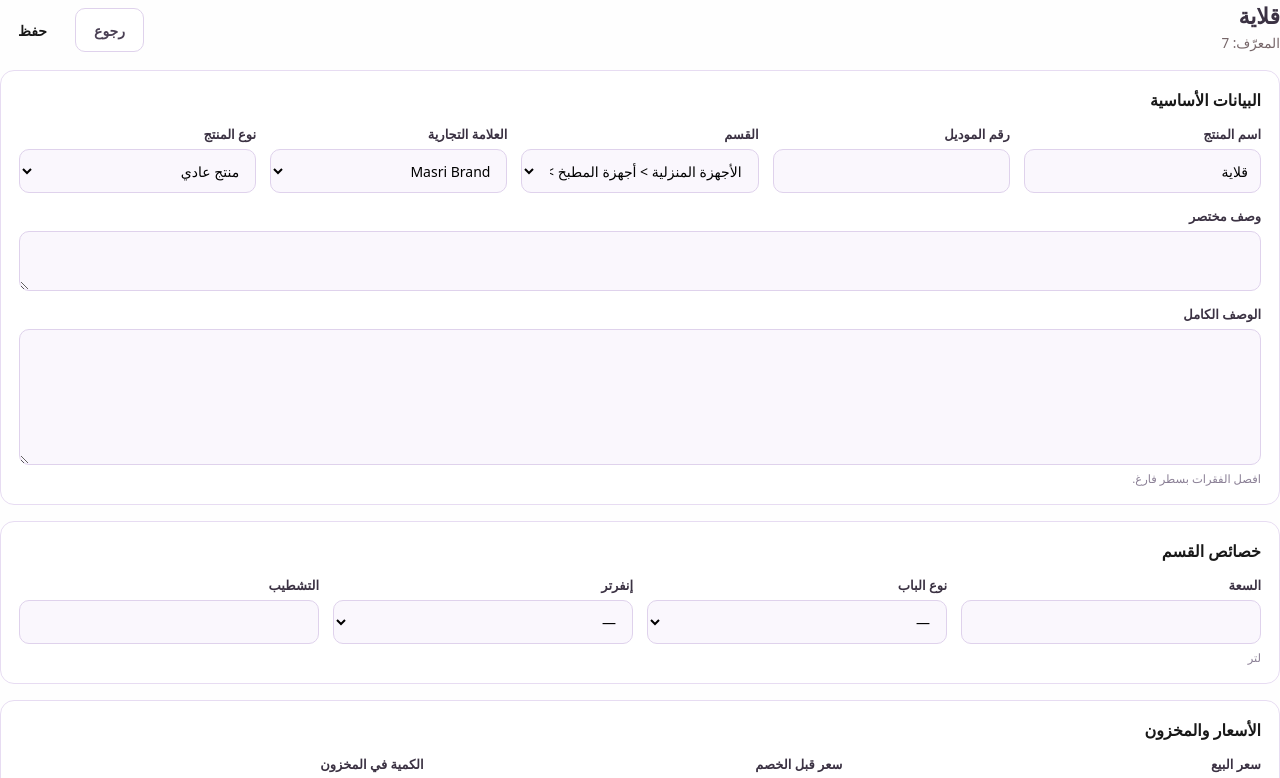
Test case: product editor primary UX › shows backend attribute validation errors
Type "25" into the number field labelled "السعة".
click(1111, 622); type("25")  # box [961,600,1261,644]
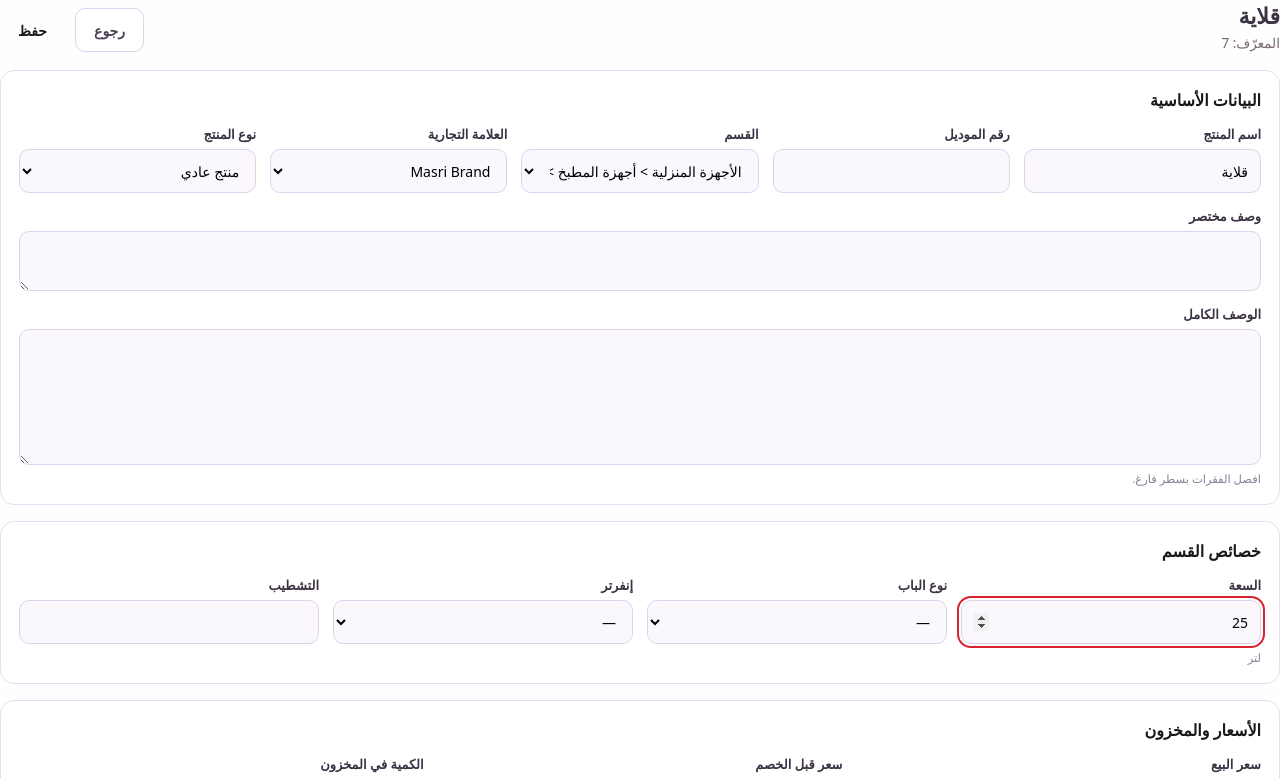
Click the button "حفظ".
click(32, 30)  # box [0,8,65,52]
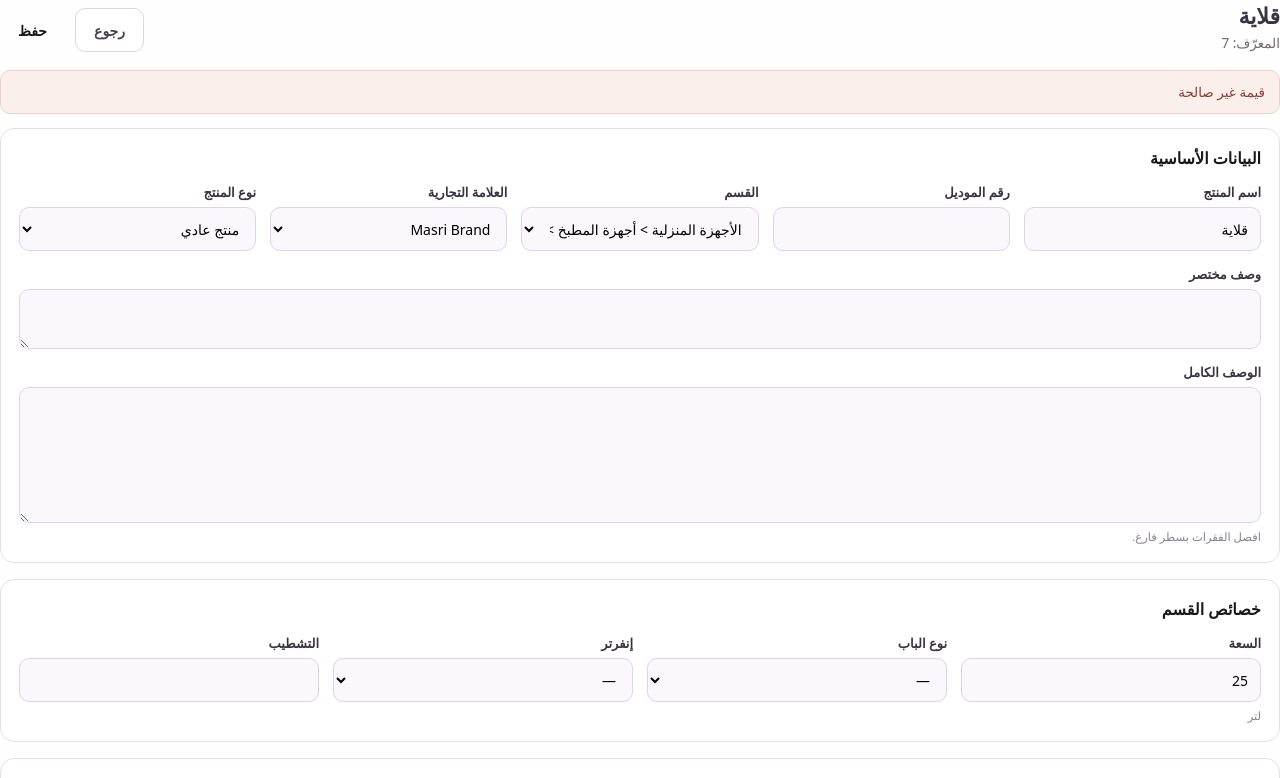
Now the text "قيمة غير صالحة" is shown, box [0,70,1279,114]
